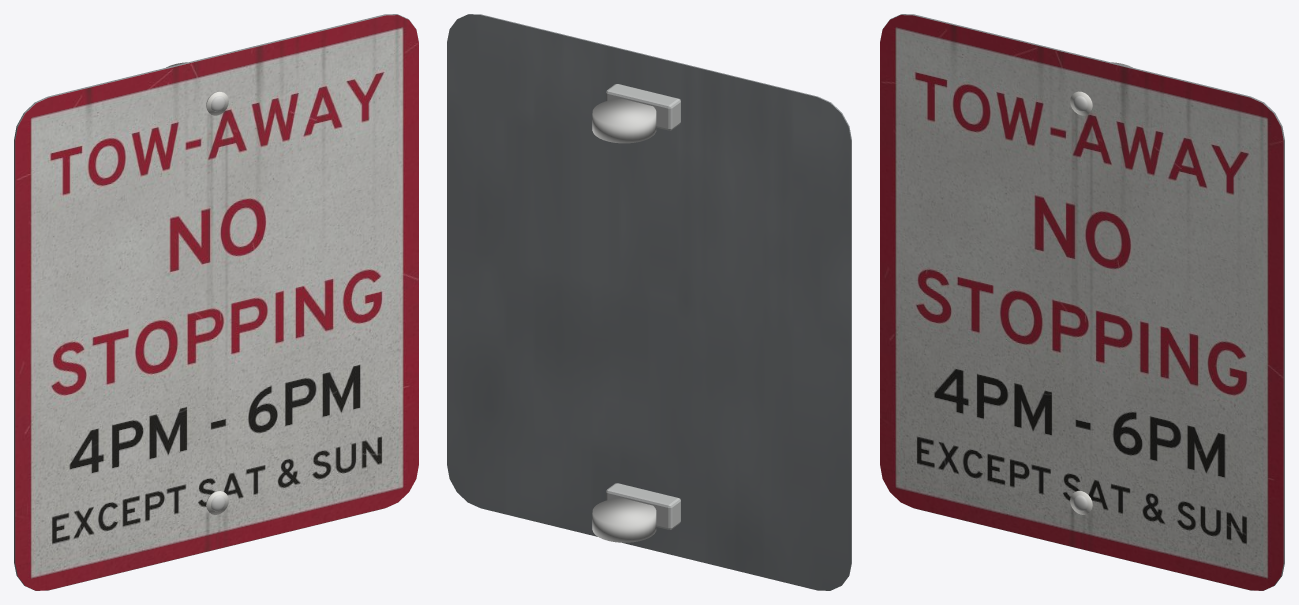
The model's file is towAway-v1.glb.
3 renders of one model, left to right at view 1: azimuth 30°, elevation 25°; view 2: azimuth 150°, elevation 25°; view 3: azimuth 330°, elevation 25°, orthographic.
Visible parts, largest first — view 1: towAway-v1; view 2: towAway-v1; view 3: towAway-v1.
Boxes of the visible parts, <box> form: towAway-v1: <box>14,14,418,590</box>; towAway-v1: <box>447,14,851,590</box>; towAway-v1: <box>880,14,1284,590</box>.
Size of the model in its own units: 0.4572 by 0.5333 by 0.0871.
1 material, 1 textured.
